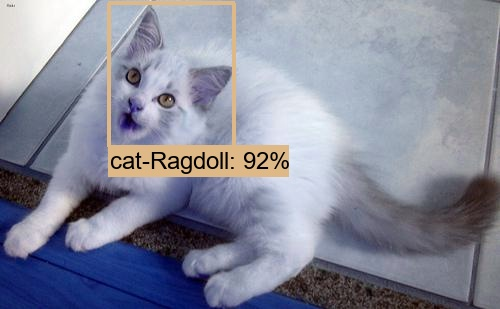cat-Ragdoll: (112, 5, 235, 139)
